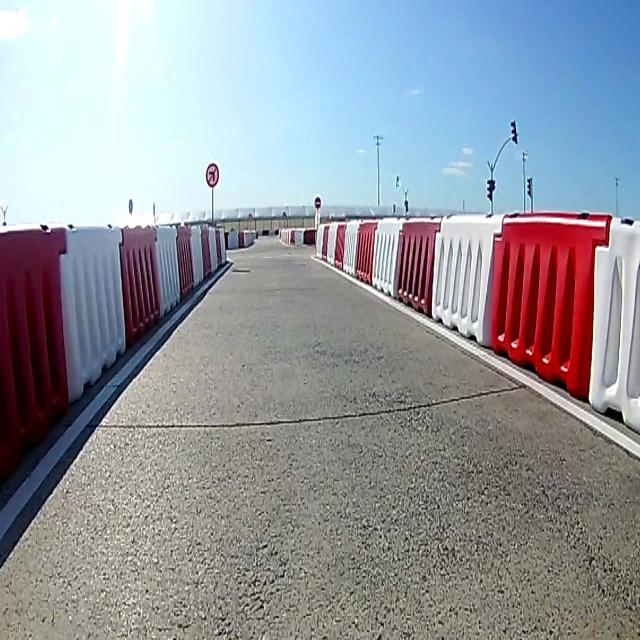girisyok: (314, 196, 321, 209)
soladonulmez: (205, 163, 220, 188)
